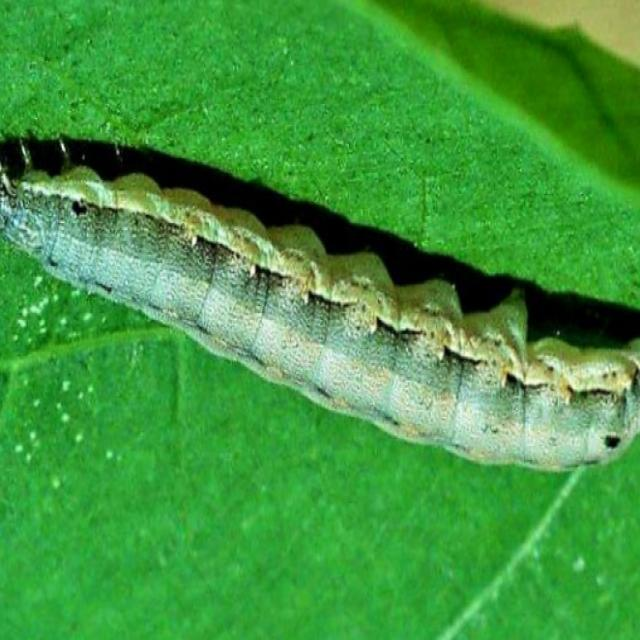Armyworm: (3, 75, 640, 538)
